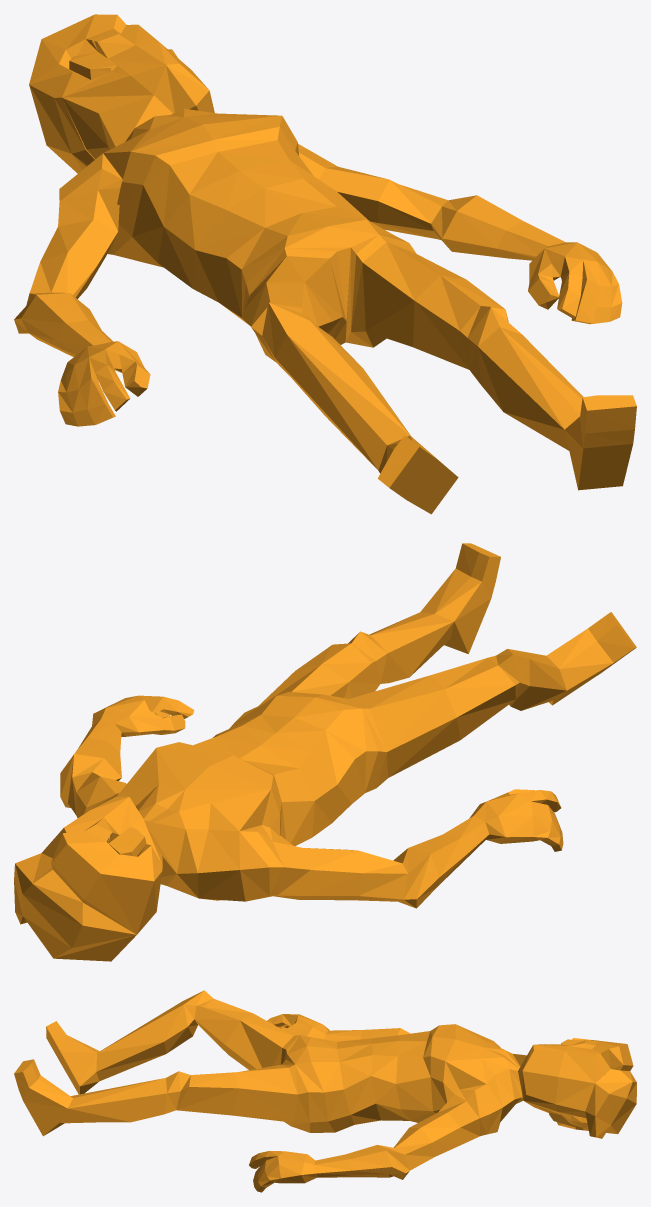
File: SM_Pawn_Dead_Male_01.fbx
The picture shows the model from 3 angles, top to bottom: view 1: azimuth 30°, elevation 25°; view 2: azimuth 150°, elevation 25°; view 3: azimuth 270°, elevation 25°; orthographic projection. The views are drawn at different scales.
Parts seen in each view (by area): view 1: SM_Pawn_Dead_Male_01; view 2: SM_Pawn_Dead_Male_01; view 3: SM_Pawn_Dead_Male_01.
Boxes of the visible parts, x1,y1,x2,y2 form: SM_Pawn_Dead_Male_01: (14, 14, 636, 514); SM_Pawn_Dead_Male_01: (14, 543, 636, 961); SM_Pawn_Dead_Male_01: (14, 990, 636, 1192).
Size of the model in its own units: 113 by 32.29 by 189.
